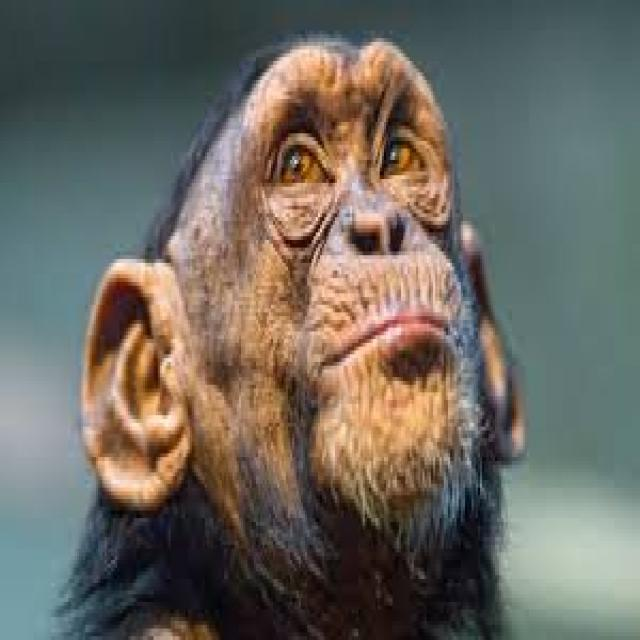chimpanzee: (62, 38, 523, 636)
